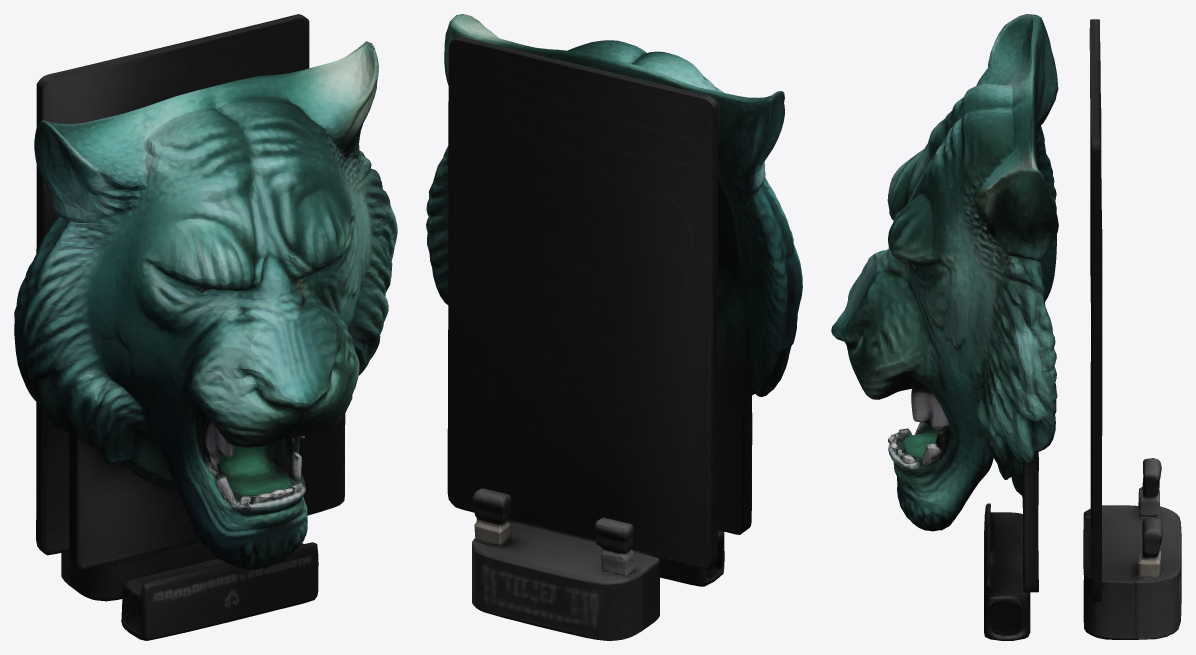
Rendered from tiger.glb.
3 views of the same model, side by side, from view 1: azimuth 30°, elevation 25°; view 2: azimuth 150°, elevation 25°; view 3: azimuth 270°, elevation 25° (orthographic). The views are drawn at different scales.
Parts seen in each view (by area): view 1: world; view 2: world; view 3: world.
Part boxes in pixels (box(x1,y1,x2,y2)): world: box(14, 14, 397, 640); world: box(426, 14, 802, 640); world: box(831, 14, 1181, 640).
Size of the model in its own units: 0.7257 by 0.9979 by 0.6074.
Materials: 1 (1 with a texture image).
